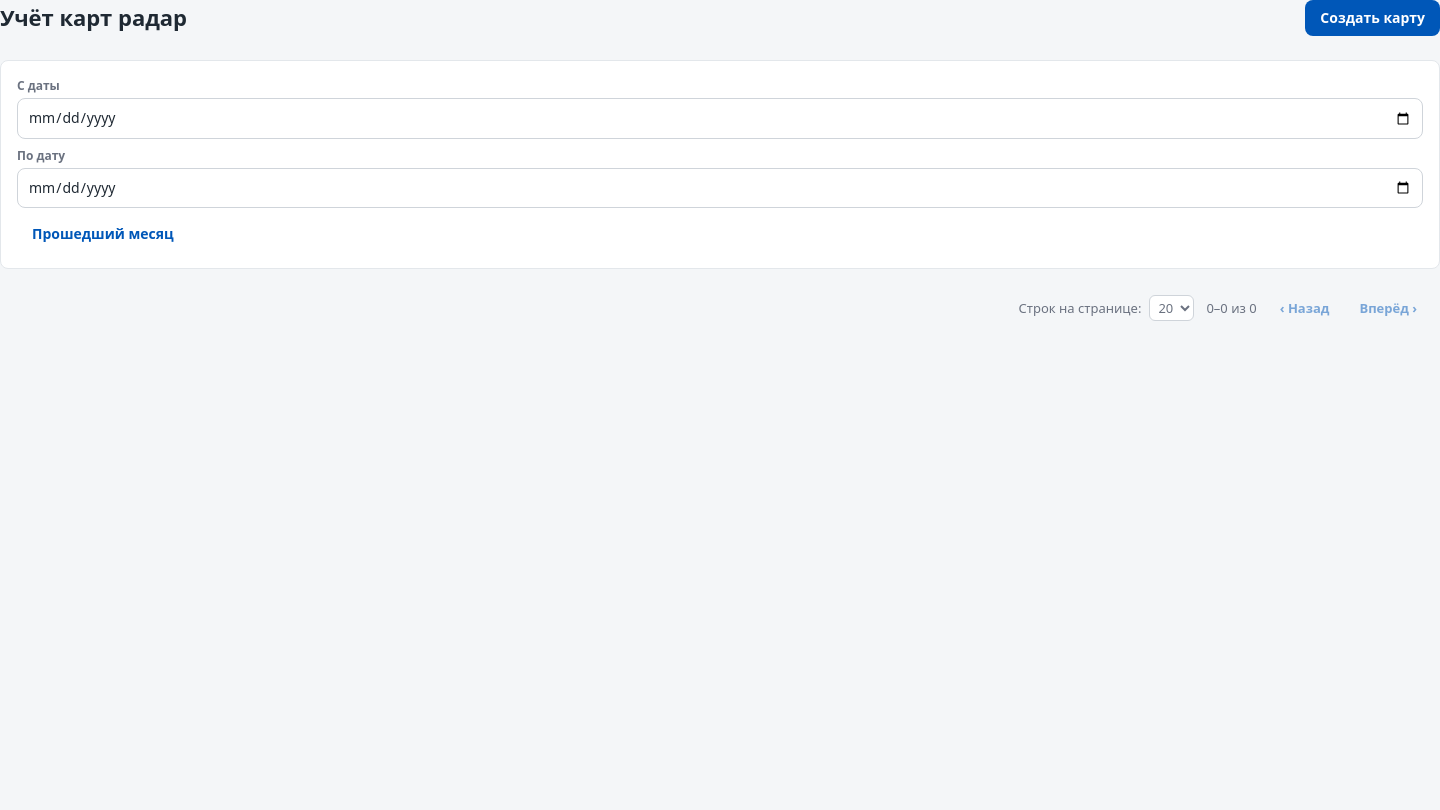
Scenario: RadarCardsPage customer directory › uses shared customer options for new cards
Click the button "Создать карту": {"x": 1373, "y": 18} [1305,0,1439,36]
(page scrolled)
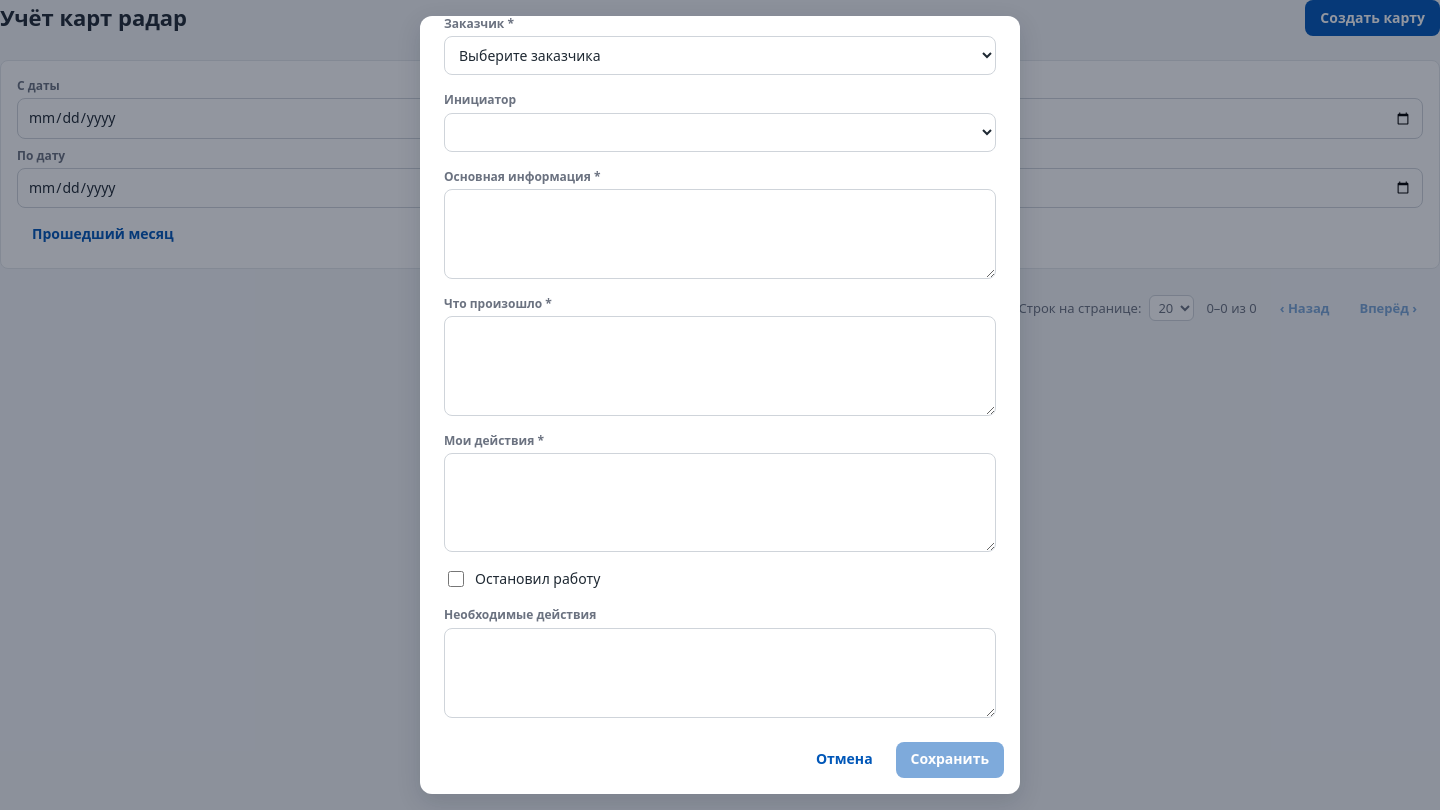
Expected: the dropdown labelled "Заказчик *" shows "Выберите заказчика", [444,36,996,75]
Expected: the button "Сохранить" is disabled, [896,742,1004,778]
